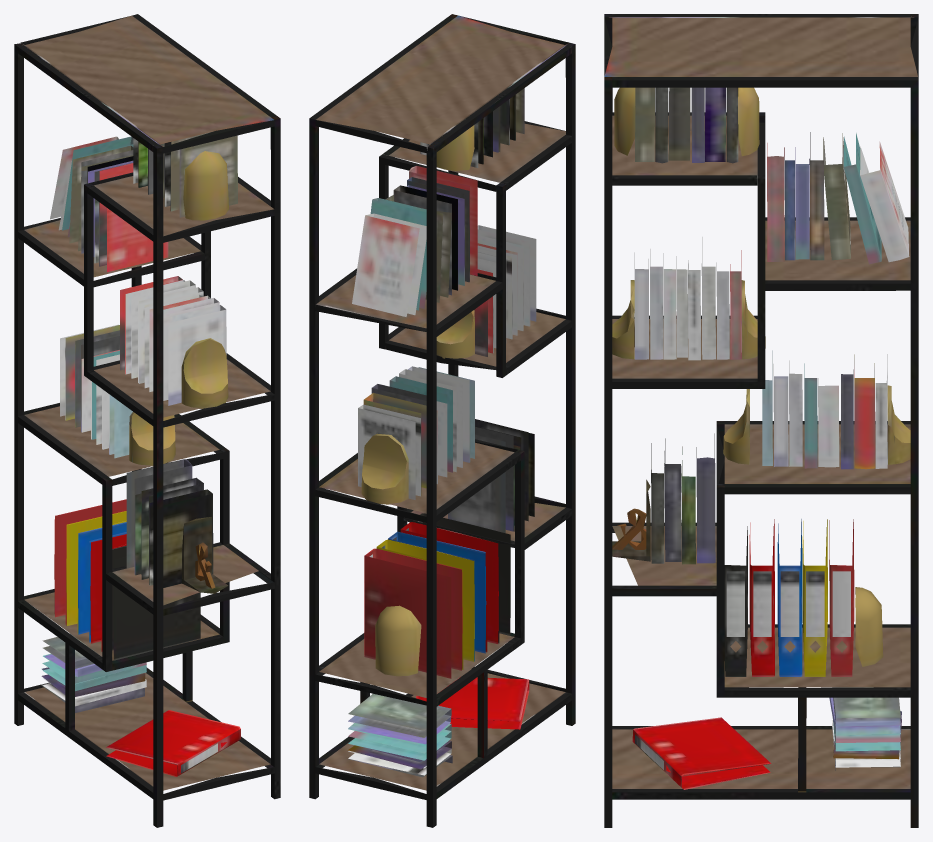
File: Bookshelf0003.obj
3 renders of one model, left to right at view 1: azimuth 30°, elevation 25°; view 2: azimuth 150°, elevation 25°; view 3: azimuth 270°, elevation 25°, orthographic. The views are drawn at different scales.
Bounding box in the file's own units: 0.4 × 2.1 × 0.8.
1 material, 1 textured.
